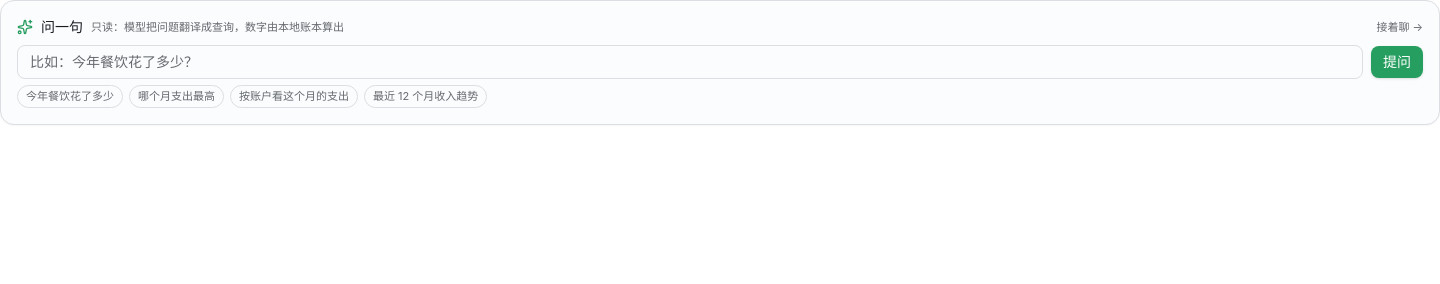
it: AskCard › falls back to the engine summary when the model wrote no prose
Click the button "哪个月支出最高" at coordinates (176, 96), box [129, 85, 224, 108]
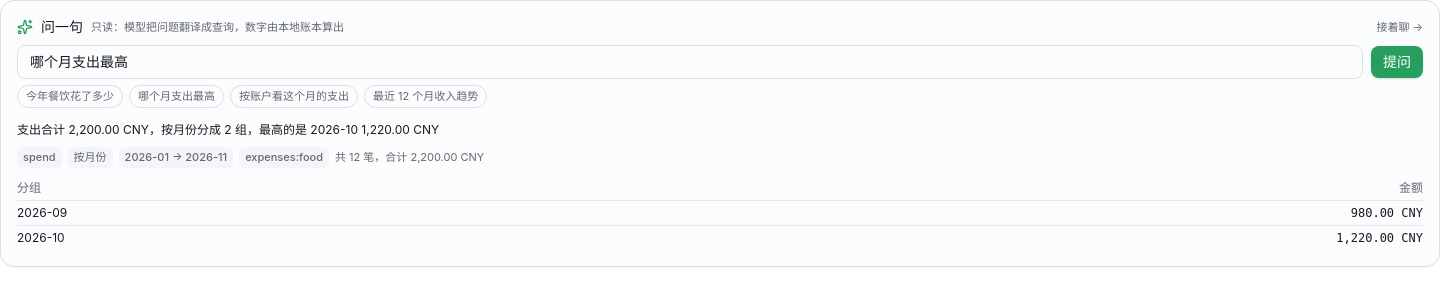
Expected: the text "支出合计 2,200.00 CNY，按月份分成 2 组，最高的是 2026-10 1,220.00 CNY" is shown, [17, 122, 439, 136]
